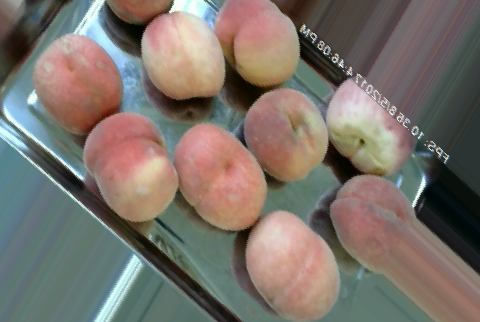Peach: (81, 112, 179, 221), (245, 208, 339, 319), (174, 123, 267, 230), (33, 32, 124, 133), (325, 77, 409, 177), (244, 84, 327, 183), (137, 11, 229, 99), (211, 0, 301, 86)
